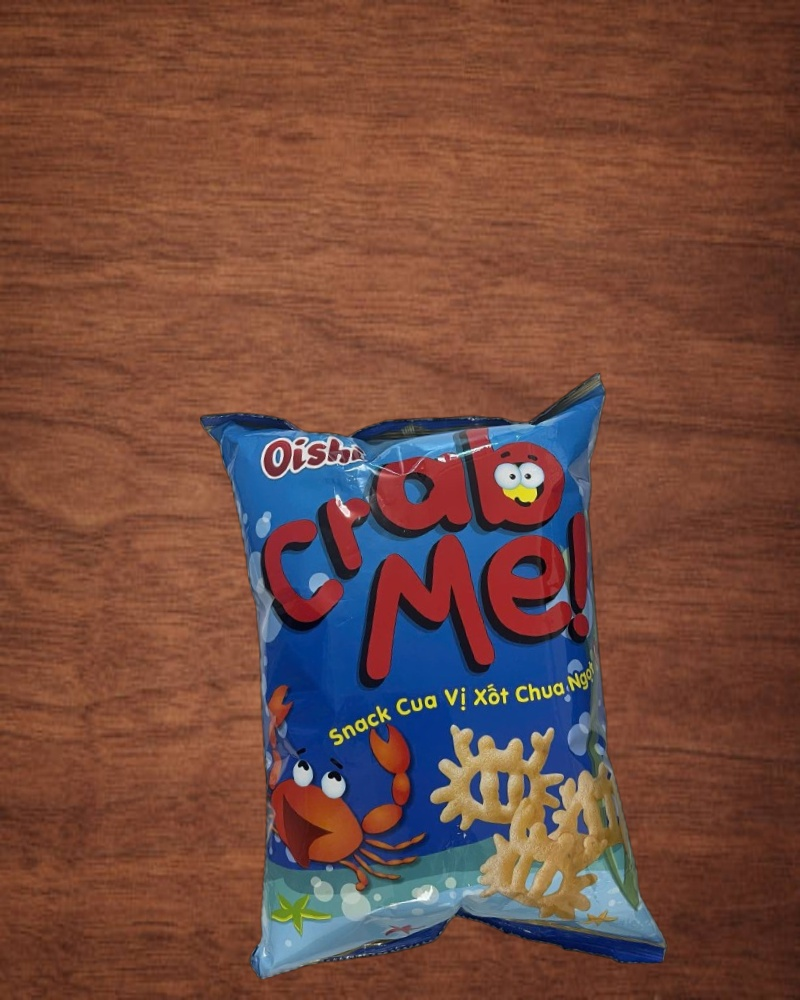Snack chay: (200, 372, 669, 1000)
